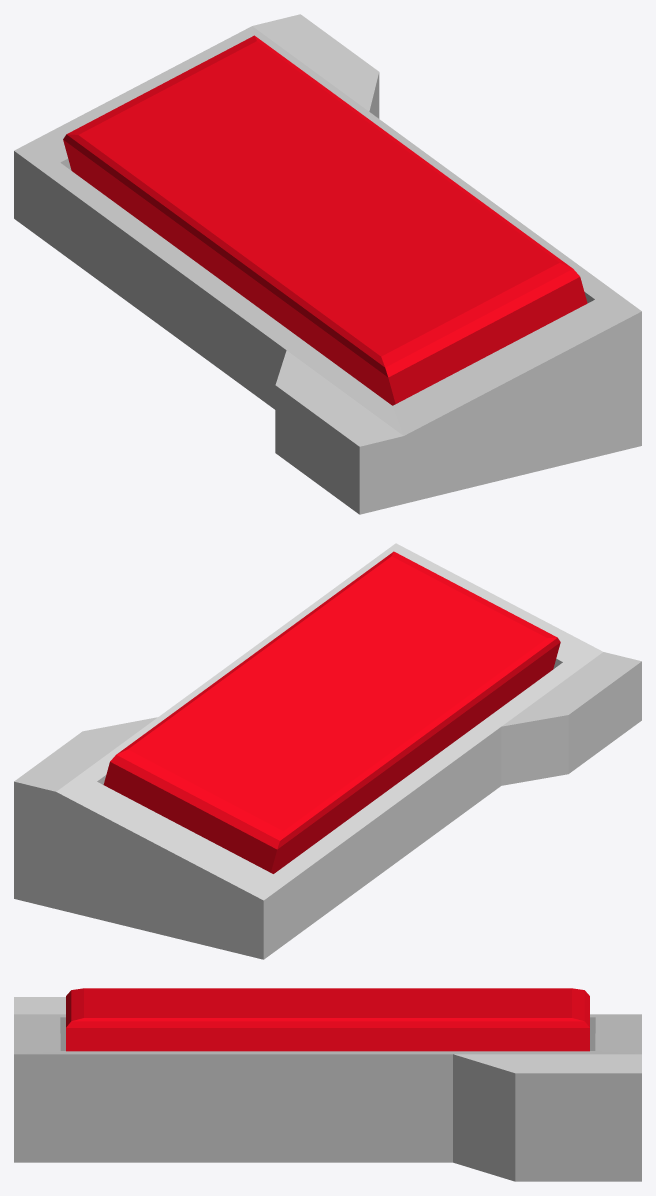
The model's file is Tombol.dae.
3 views of the same model, one above another, from view 1: azimuth 30°, elevation 25°; view 2: azimuth 150°, elevation 25°; view 3: azimuth 270°, elevation 25° (orthographic). The views are drawn at different scales.
Parts seen in each view (by area): view 1: Plane.037, Plane.036; view 2: Plane.037, Plane.036; view 3: Plane.036, Plane.037.
Boxes of the visible parts, box(x1,y1,x2,y2) form: Plane.037: box(63, 35, 587, 405); Plane.036: box(14, 14, 641, 514); Plane.037: box(103, 551, 560, 873); Plane.036: box(14, 543, 641, 959); Plane.036: box(14, 997, 641, 1181); Plane.037: box(66, 988, 589, 1051).
Size of the model in its own units: 1.95 by 3.98 by 0.9069.
